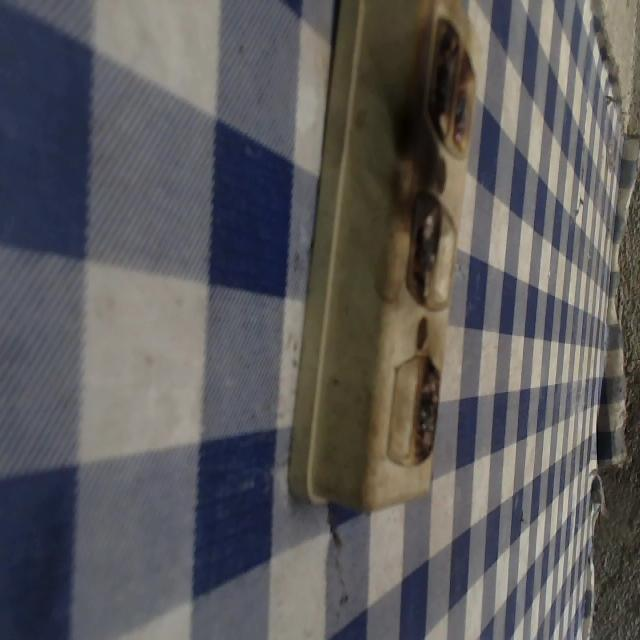-: (424, 11, 476, 156), (402, 184, 442, 304), (409, 349, 441, 459)
